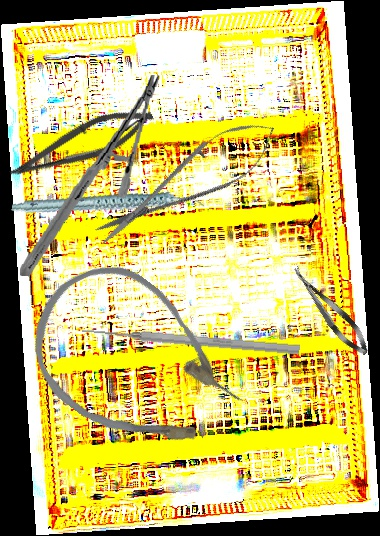Cannula: (4, 239, 266, 488)
Handpiece: (10, 162, 206, 249)
Micro Scissor: (85, 105, 288, 260), (4, 94, 159, 196), (286, 261, 375, 361)
Needle Holder: (19, 64, 161, 287)
Pusher: (81, 323, 301, 357)
